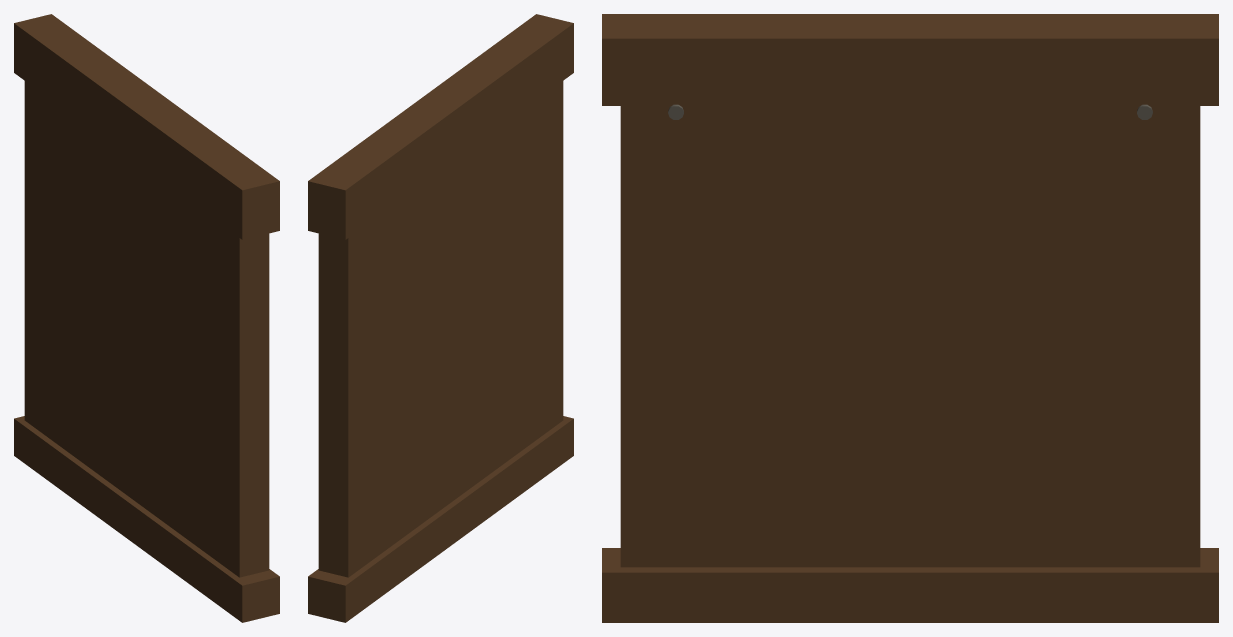
File: headboard_80s.glb
3 renders of one model, left to right at view 1: azimuth 30°, elevation 25°; view 2: azimuth 150°, elevation 25°; view 3: azimuth 270°, elevation 25°, orthographic. The views are drawn at different scales.
Visible parts, largest first — view 1: wood__panel, wood__crown_rail, wood__lower_rail; view 2: wood__panel, wood__crown_rail, wood__lower_rail; view 3: wood__panel, wood__crown_rail, wood__lower_rail.
Part boxes in pixels (left/top/right/bottom): wood__panel: left=24, top=81, right=269, bottom=577; wood__crown_rail: left=14, top=14, right=279, bottom=239; wood__lower_rail: left=14, top=416, right=279, bottom=622; wood__panel: left=318, top=81, right=563, bottom=577; wood__crown_rail: left=308, top=14, right=573, bottom=239; wood__lower_rail: left=308, top=416, right=573, bottom=622; wood__panel: left=620, top=106, right=1200, bottom=567; wood__crown_rail: left=602, top=14, right=1218, bottom=105; wood__lower_rail: left=602, top=548, right=1218, bottom=622.
Bounding box in the file's own units: 0.1015 × 1.04 × 1.
